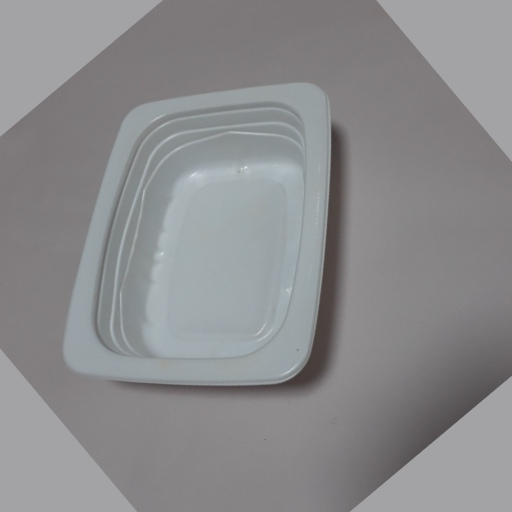Plastic_4: (61, 79, 333, 392)
